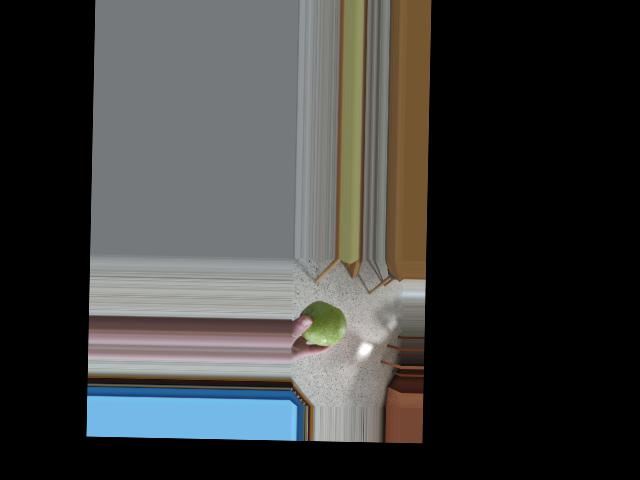apple: (297, 297, 348, 349)
